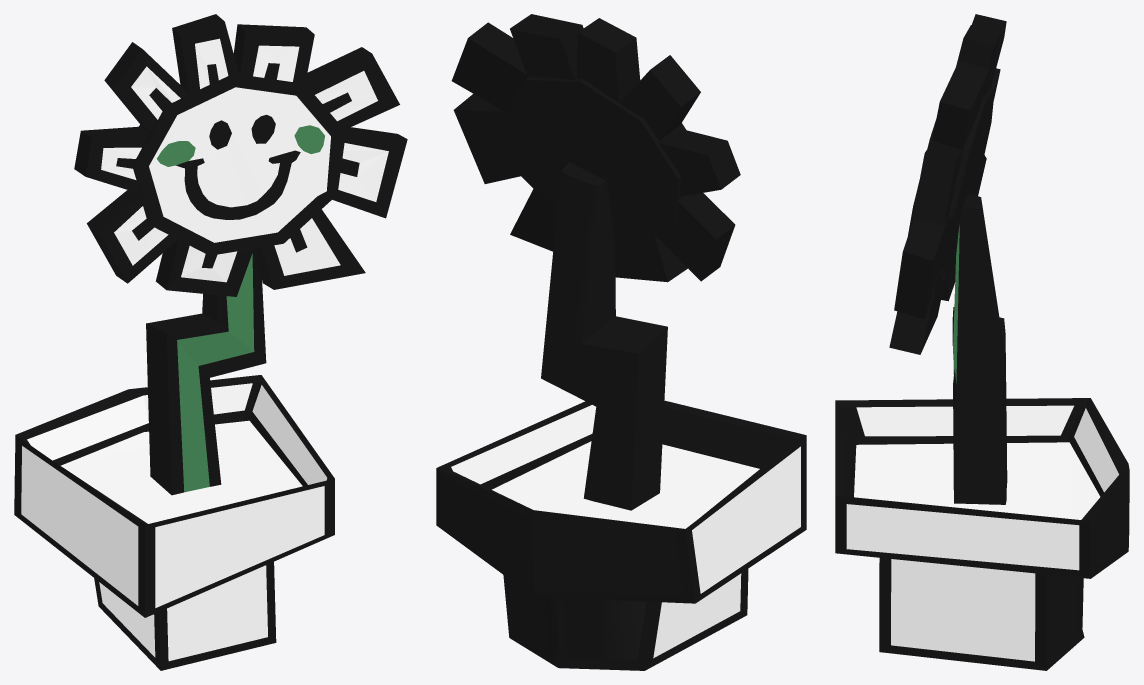
File: green_day_flower.glb
The picture shows the model from 3 angles, left to right: view 1: azimuth 30°, elevation 25°; view 2: azimuth 150°, elevation 25°; view 3: azimuth 270°, elevation 25°; orthographic projection. The views are drawn at different scales.
Visible parts, largest first — view 1: Plane; view 2: Plane; view 3: Plane.
Boxes of the visible parts, left/top/right/bottom form: Plane: left=14, top=14, right=407, bottom=670; Plane: left=436, top=14, right=806, bottom=670; Plane: left=835, top=14, right=1129, bottom=670.
Size of the model in its own units: 1.2 by 2.18 by 0.9574.
Materials: 1 (1 with a texture image).
